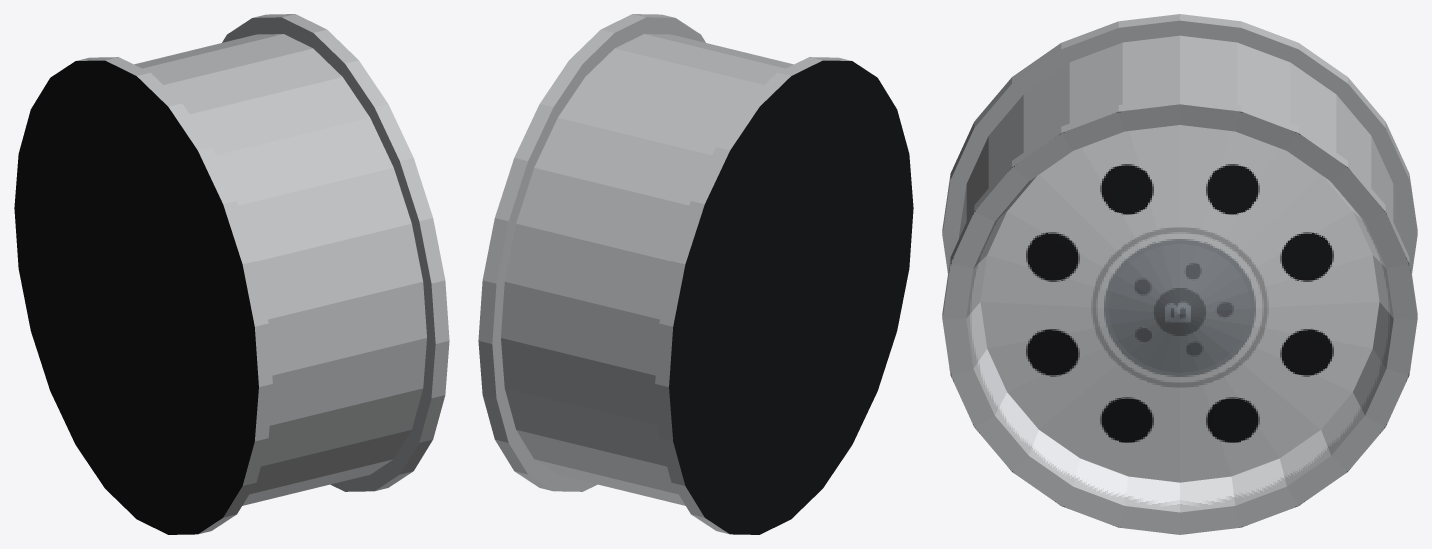
The model's file is bigorna_estampada_15.glb.
3 renders of one model, left to right at view 1: azimuth 30°, elevation 25°; view 2: azimuth 150°, elevation 25°; view 3: azimuth 270°, elevation 25°, orthographic. The views are drawn at different scales.
Parts seen in each view (by area): view 1: bigorna_estampada_15; view 2: bigorna_estampada_15; view 3: bigorna_estampada_15.
Boxes of the visible parts, x1,y1,x2,y2 form: bigorna_estampada_15: [14, 14, 449, 534]; bigorna_estampada_15: [478, 14, 913, 534]; bigorna_estampada_15: [942, 14, 1417, 534].
Size of the model in its own units: 0.192 by 0.4267 by 0.4267.
1 material, 1 textured.
